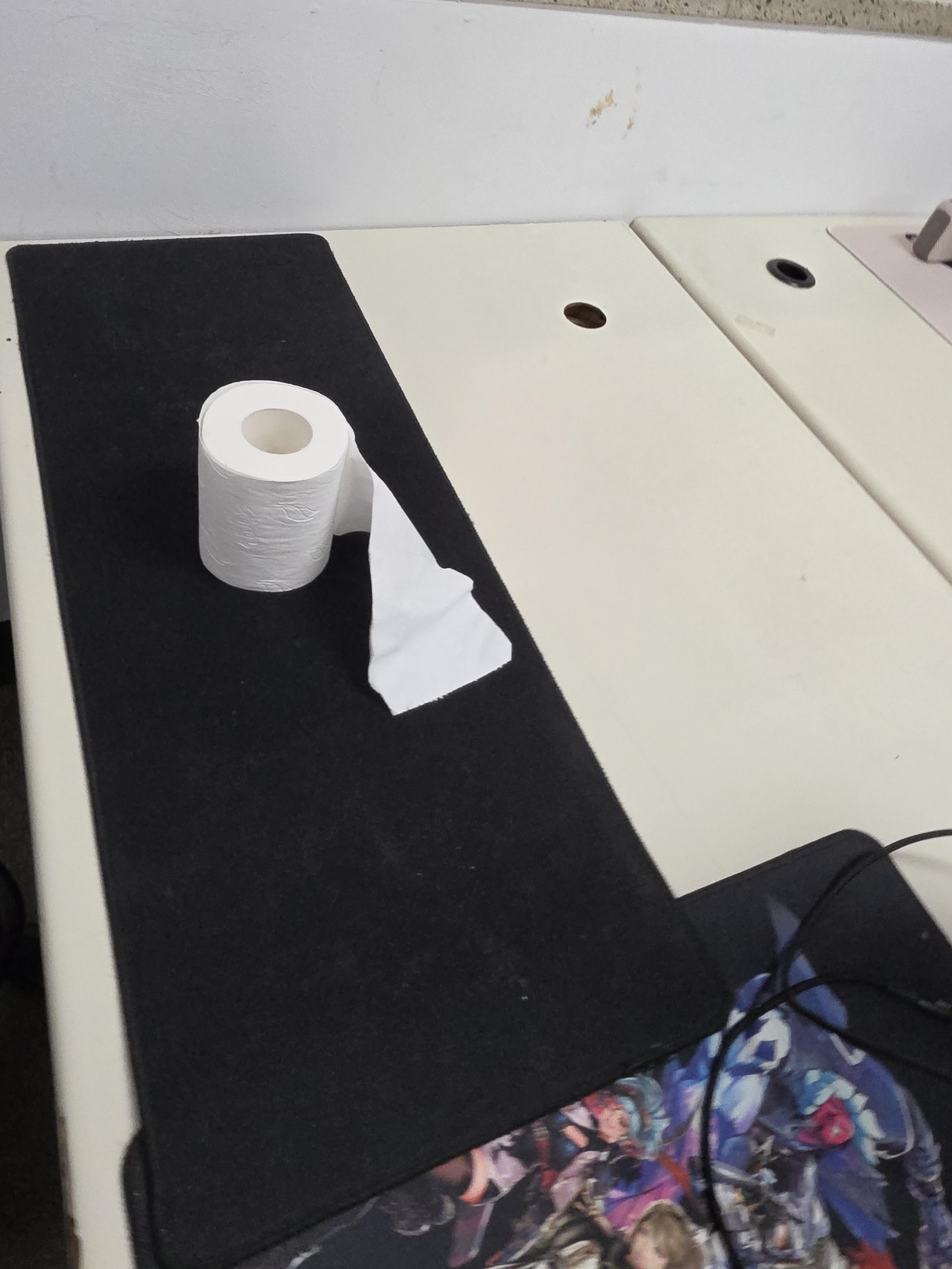tissue: (196, 378, 514, 717)
